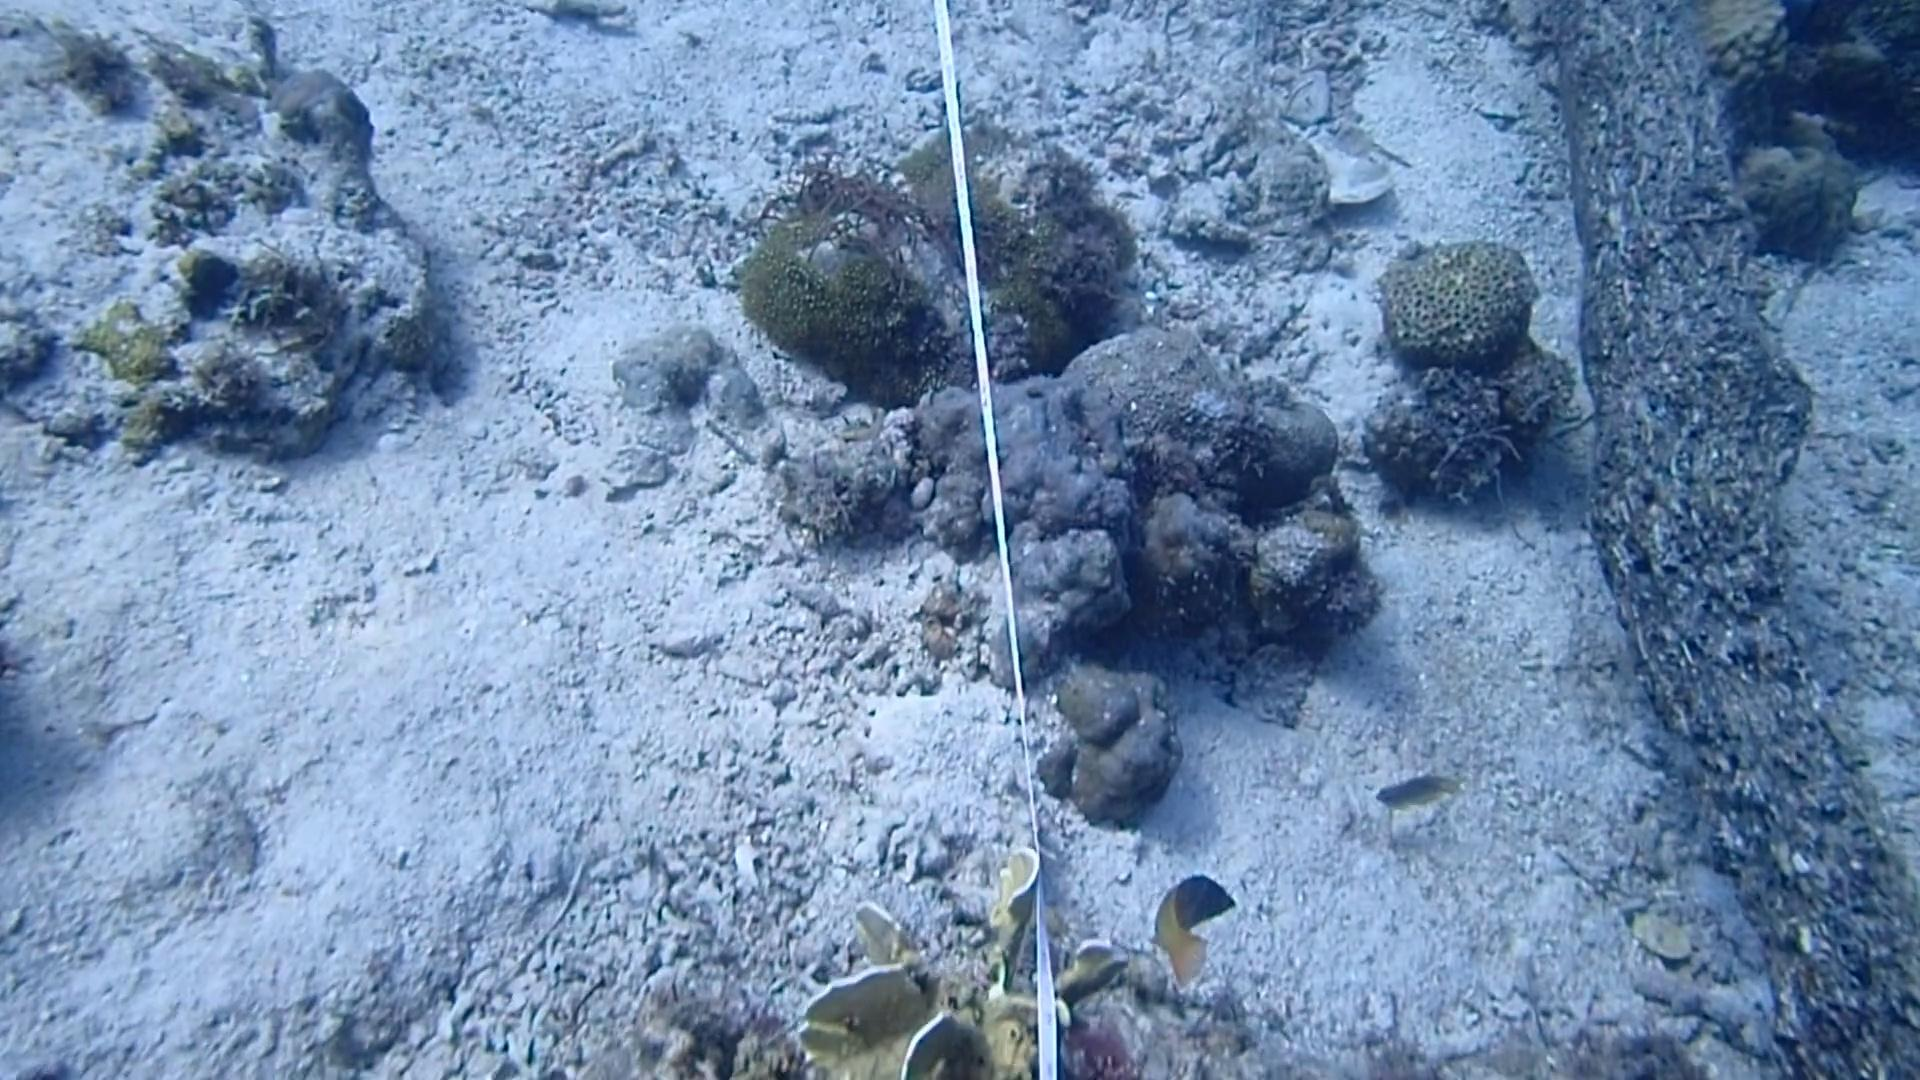Light Fish: (1358, 757, 1465, 833)
Yellow-Blue Fish: (1138, 866, 1249, 985)
